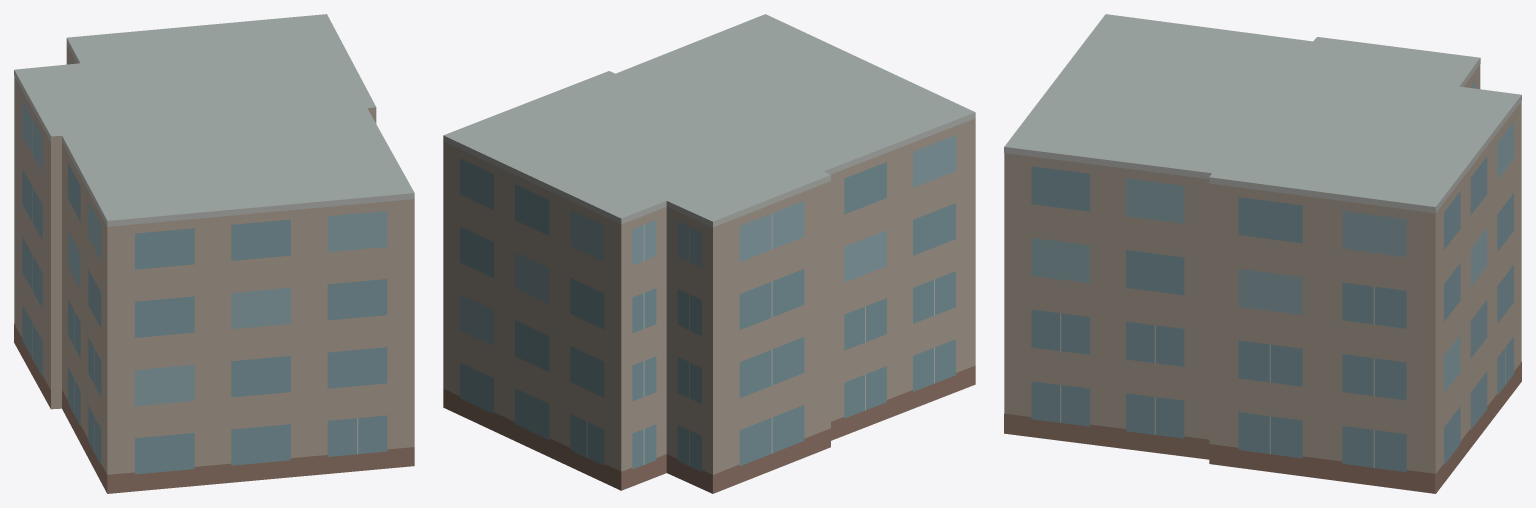
File: survey-upis-32804470.glb
3 views of the same model, side by side, from view 1: azimuth 30°, elevation 25°; view 2: azimuth 150°, elevation 25°; view 3: azimuth 270°, elevation 25° (orthographic). The views are drawn at different scales.
Parts seen in each view (by area): view 1: survey-upis-32804470.tmp; view 2: survey-upis-32804470.tmp; view 3: survey-upis-32804470.tmp.
Boxes of the visible parts, x1,y1,x2,y2 form: survey-upis-32804470.tmp: [14, 14, 414, 493]; survey-upis-32804470.tmp: [443, 14, 975, 493]; survey-upis-32804470.tmp: [1004, 14, 1521, 493].
Bounding box in the file's own units: 16.34 × 11.3 × 18.5.
